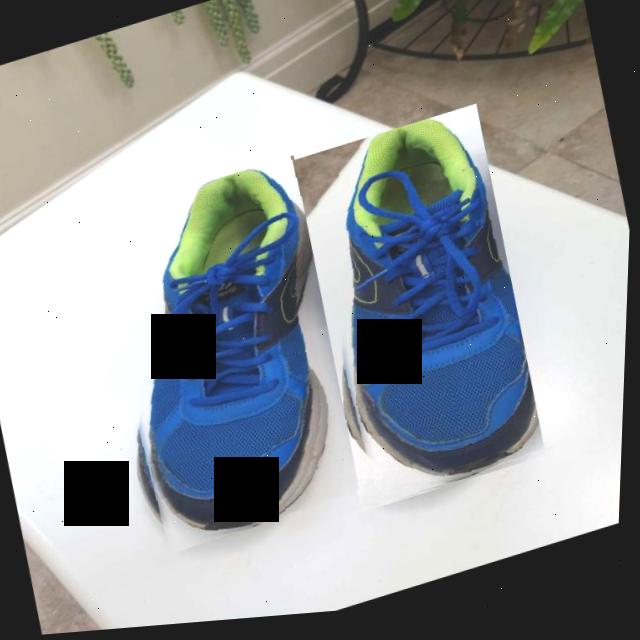shoe: (76, 154, 375, 568), (282, 106, 560, 524)
